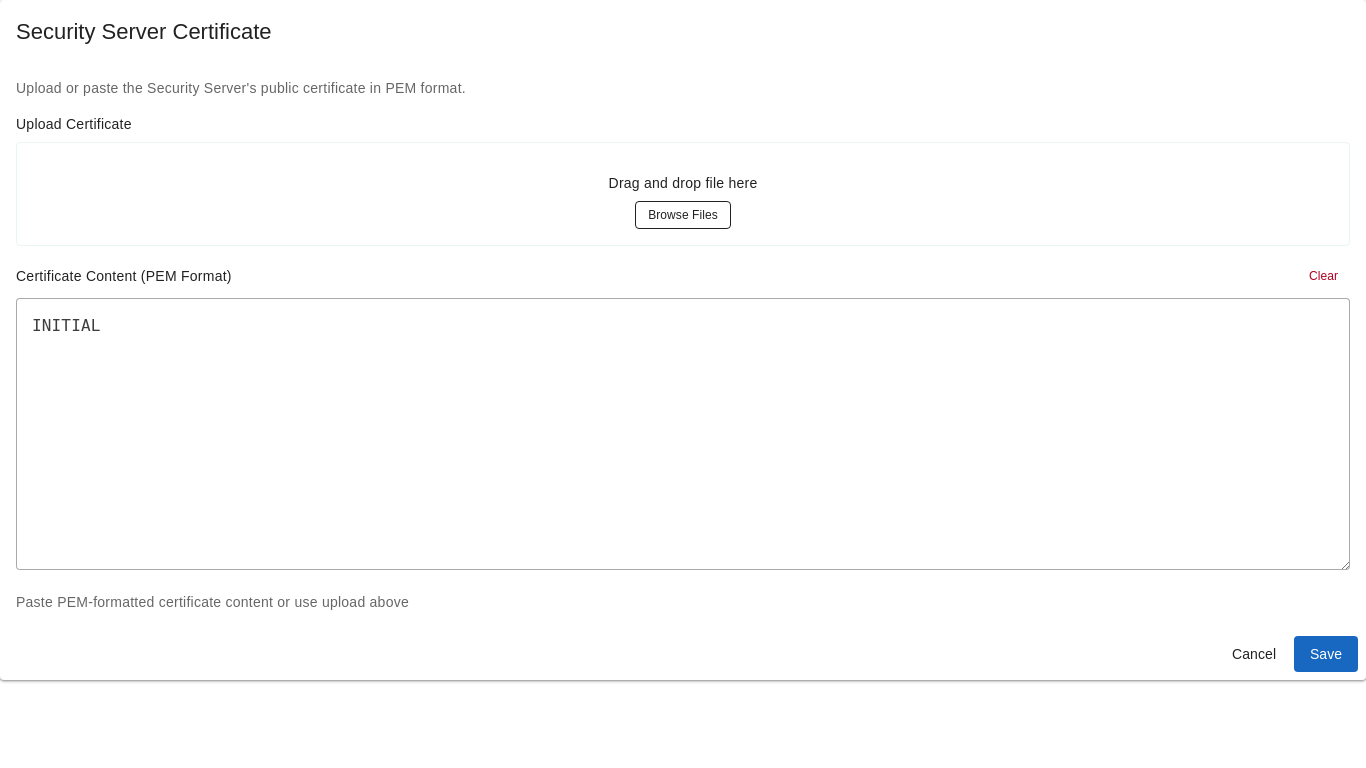
Test: CertificateUploadModal › clears the textarea when the Clear button is clicked
Check: the text box holds "INITIAL", box 16,298 -> 1350,570
Click the button "Clear" at x=1323, y=276, box 1297,262 -> 1350,290
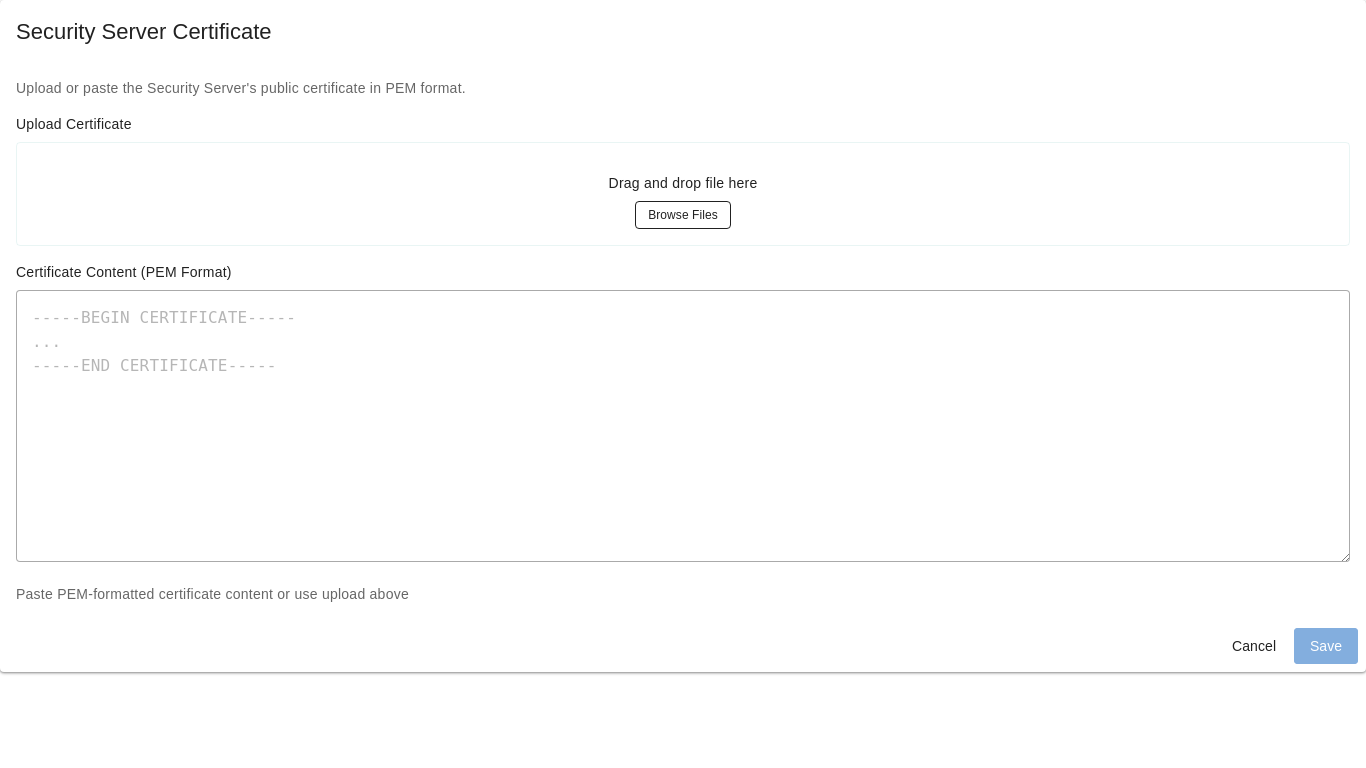
Check: the text box with placeholder "-----BEGIN CERTIFICATE----- ... -----END CERTIFICATE-----" is empty, box 16,290 -> 1350,562
